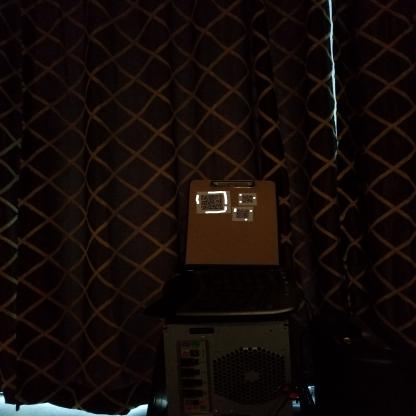qr: (200, 193, 225, 210), (239, 192, 256, 203), (237, 207, 251, 217)
